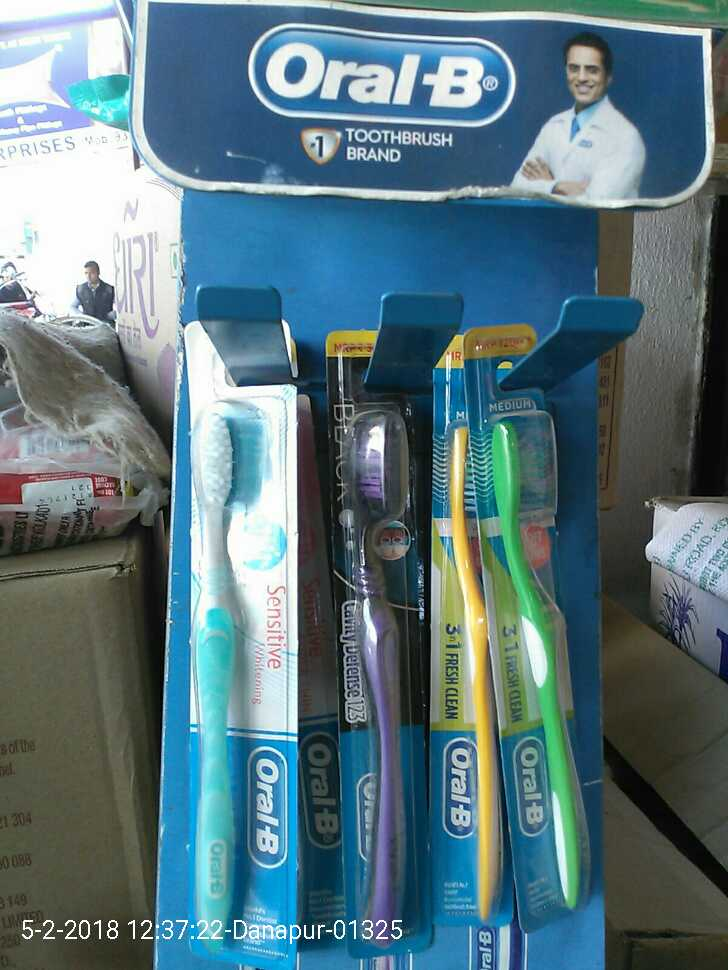oralb: (458, 326, 604, 912), (178, 328, 304, 958), (328, 344, 433, 946)
